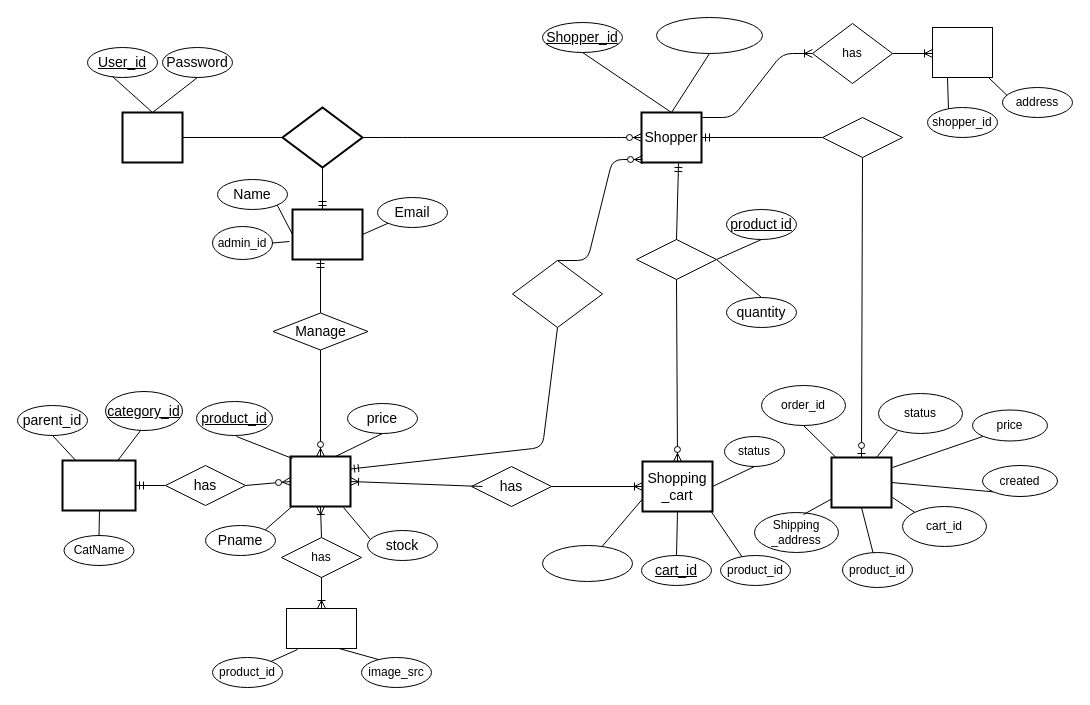
Some shapes in this 1090 by 705 pixel diagram are drawn without their labels. The box of each missing label's shape, as (x1, y1, x2, y2) in pixels:
address_ details: (932, 26, 992, 78)
admin: (291, 208, 363, 260)
Date_Added: (542, 544, 632, 582)
images: (286, 608, 356, 648)
Login: (281, 106, 363, 168)
order: (830, 456, 892, 508)
place: (822, 116, 902, 158)
product: (289, 455, 351, 507)
Product category: (61, 459, 136, 511)
Select product: (512, 260, 602, 328)
Shopper_name: (656, 16, 762, 54)
Update: (636, 238, 716, 280)
user: (121, 111, 183, 163)
